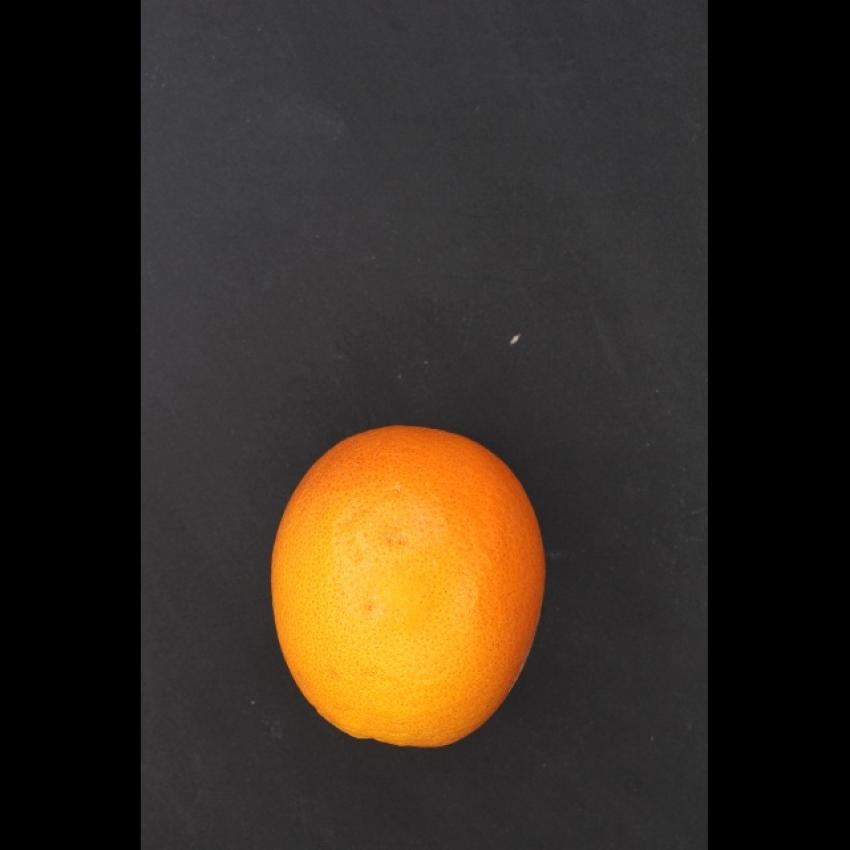Mal estado: (266, 386, 554, 761)
